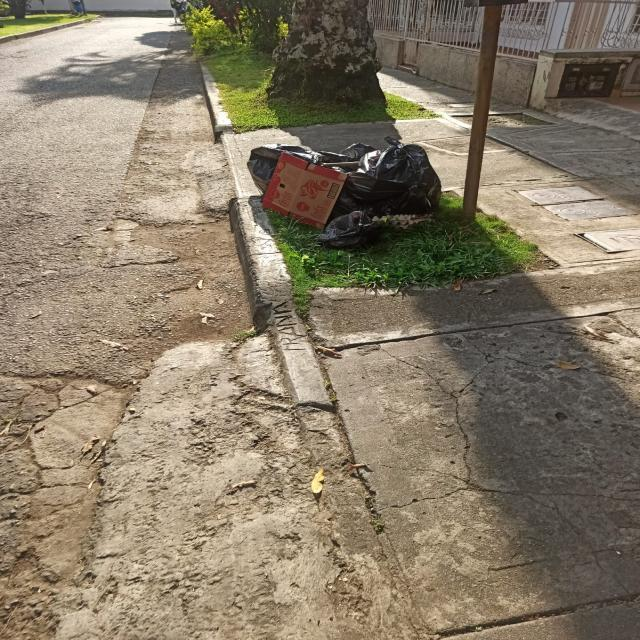Trashbag: (362, 142, 444, 204), (320, 209, 382, 245)
